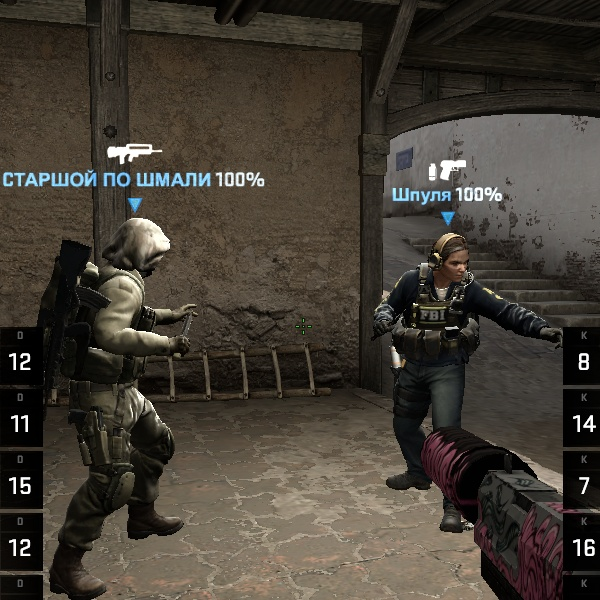ct_body: (42, 214, 182, 588)
ct_head: (104, 215, 171, 276), (426, 233, 477, 287)
